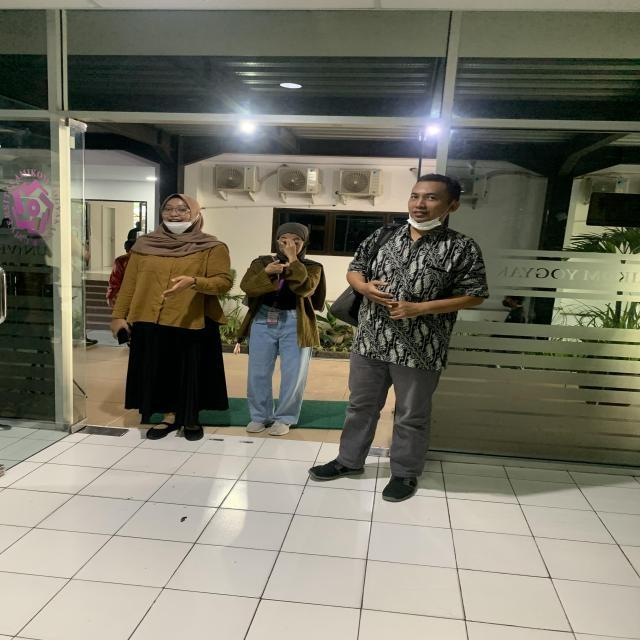hairnet: (403, 172, 462, 232), (159, 192, 202, 237), (268, 220, 314, 260)
